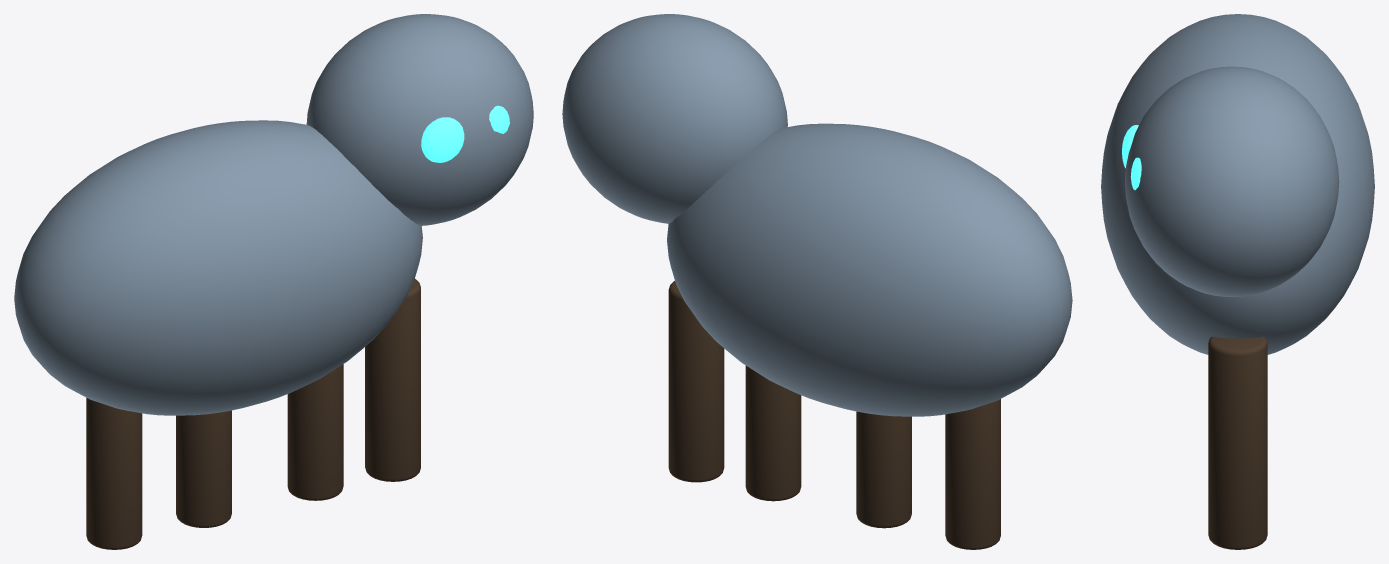
The model's file is beast.glb.
The picture shows the model from 3 angles, left to right: view 1: azimuth 30°, elevation 25°; view 2: azimuth 150°, elevation 25°; view 3: azimuth 270°, elevation 25°; orthographic projection. The views are drawn at different scales.
Parts seen in each view (by area): view 1: BODY_PRIMARY, HEAD_PRIMARY, LEG_SECONDARY.003, LEG_SECONDARY, LEG_SECONDARY.002, LEG_SECONDARY.001, EYE_EMISSIVE; view 2: BODY_PRIMARY, HEAD_PRIMARY, LEG_SECONDARY.003, LEG_SECONDARY, LEG_SECONDARY.002, LEG_SECONDARY.001; view 3: HEAD_PRIMARY, BODY_PRIMARY, LEG_SECONDARY.003.
Part boxes in pixels (x1,y1,x2,y2): BODY_PRIMARY: (14,120,422,415); HEAD_PRIMARY: (306,14,533,225); LEG_SECONDARY.003: (365,279,420,481); LEG_SECONDARY: (86,398,142,549); LEG_SECONDARY.002: (287,364,343,500); LEG_SECONDARY.001: (176,410,231,527); EYE_EMISSIVE: (421,117,464,162); BODY_PRIMARY: (667,123,1072,416); HEAD_PRIMARY: (562,14,787,223); LEG_SECONDARY.003: (668,281,724,482); LEG_SECONDARY: (945,399,1000,549); LEG_SECONDARY.002: (745,365,801,501); LEG_SECONDARY.001: (856,411,911,528); HEAD_PRIMARY: (1125,66,1339,296); BODY_PRIMARY: (1101,14,1374,354); LEG_SECONDARY.003: (1208,336,1267,549).
Bounding box in the file's own units: 2.04 × 1.75 × 0.92.
